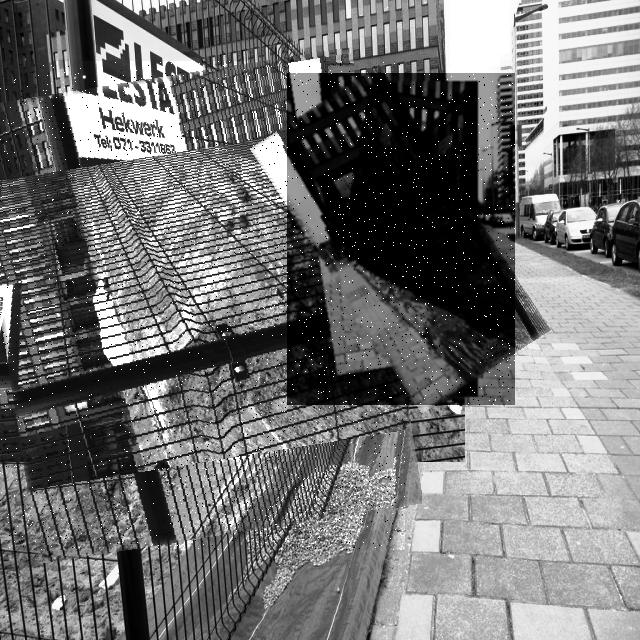fences: (0, 61, 405, 550), (287, 73, 515, 405)
